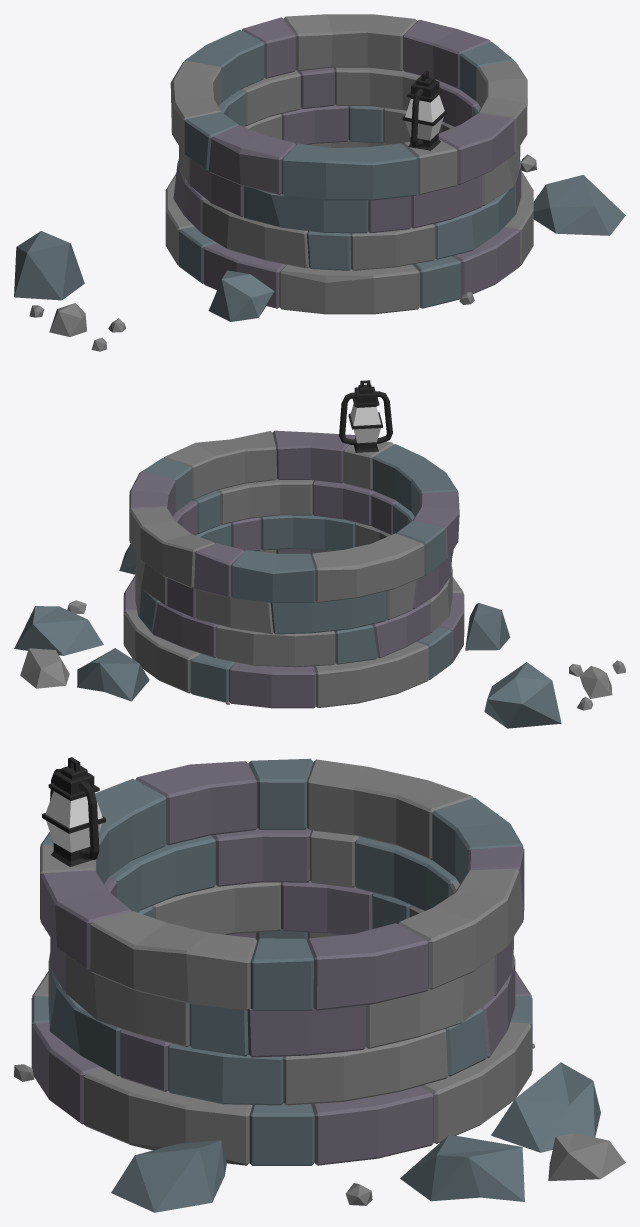
The model's file is PitShaft.fbx.
3 views of the same model, one above another, from view 1: azimuth 30°, elevation 25°; view 2: azimuth 150°, elevation 25°; view 3: azimuth 270°, elevation 25° (orthographic). The views are drawn at different scales.
Visible parts, largest first — view 1: SuperPit; view 2: SuperPit; view 3: SuperPit.
Part boxes in pixels (<box>): SuperPit: <box>14,14,625,351</box>; SuperPit: <box>14,380,625,728</box>; SuperPit: <box>14,757,625,1212</box>.
Size of the model in its own units: 1484 by 578 by 1048.
